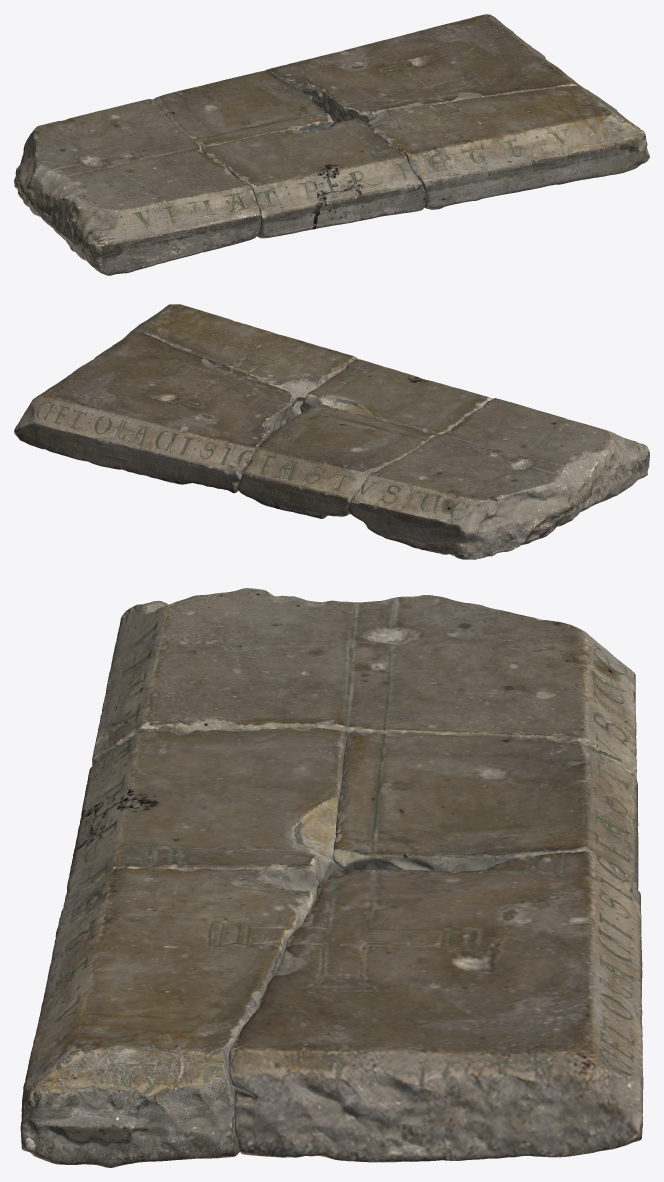
File: TombstoneReassembled.glb
3 renders of one model, top to bottom at view 1: azimuth 30°, elevation 25°; view 2: azimuth 150°, elevation 25°; view 3: azimuth 270°, elevation 25°, orthographic. The views are drawn at different scales.
Visible parts, largest first — view 1: TS5, TS2, TS1, TS3, TS4; view 2: TS5, TS1, TS4, TS2, TS3; view 3: TS1, TS5, TS2, TS4, TS3.
Boxes of the visible parts, left/top/right/bottom form: TS5: left=14, top=99, right=260, bottom=275; TS2: left=367, top=86, right=649, bottom=209; TS1: left=264, top=14, right=584, bottom=127; TS3: left=202, top=118, right=426, bottom=238; TS4: left=153, top=71, right=333, bottom=150; TS5: left=347, top=398, right=649, bottom=559; TS1: left=14, top=332, right=293, bottom=493; TS4: left=237, top=404, right=434, bottom=518; TS2: left=125, top=304, right=357, bottom=421; TS3: left=300, top=359, right=492, bottom=435; TS1: left=229, top=851, right=643, bottom=1162; TS5: left=92, top=588, right=636, bottom=780; TS2: left=20, top=867, right=316, bottom=1167; TS4: left=333, top=733, right=638, bottom=889; TS3: left=63, top=728, right=346, bottom=906.
Size of the model in its own units: 1015 by 99.56 by 531.
5 materials, 5 textured.
